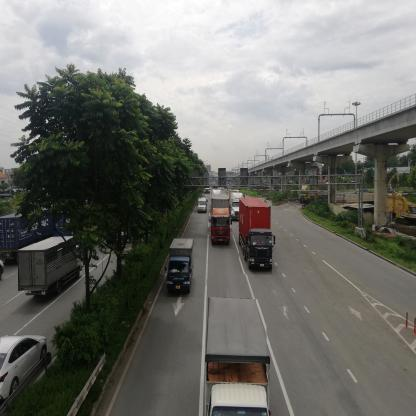car: (1, 336, 48, 406), (198, 199, 208, 215)
container: (240, 199, 273, 276), (211, 196, 230, 243), (300, 187, 327, 206), (232, 195, 242, 220)
truck: (199, 300, 268, 416), (19, 235, 83, 308), (166, 235, 196, 298)
